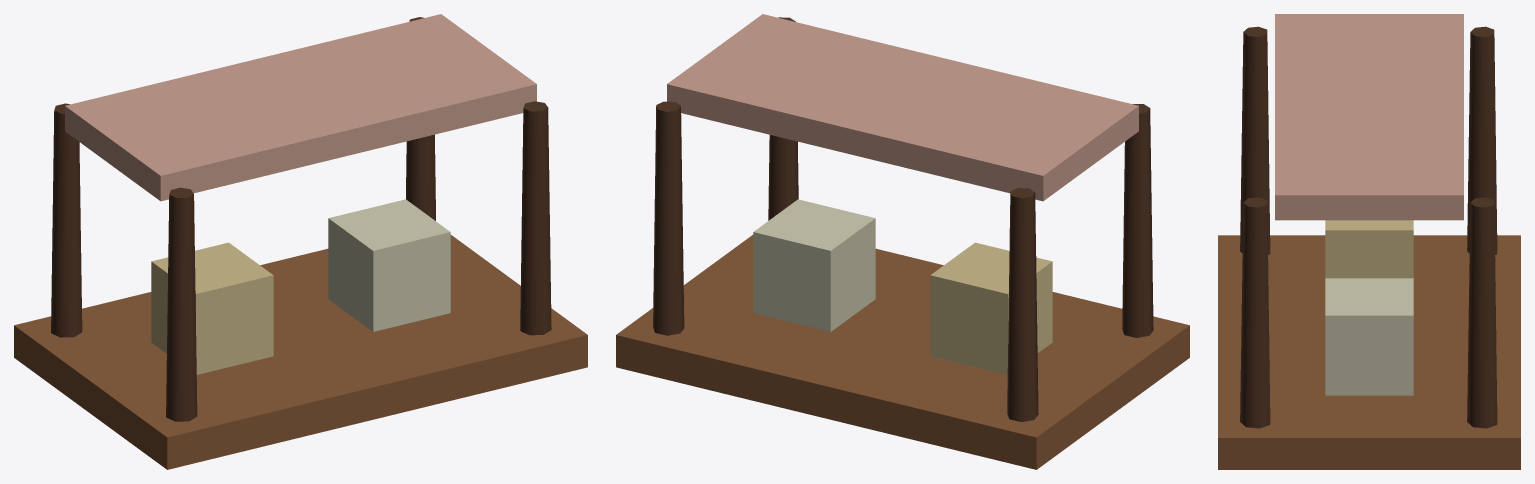
File: picnic_set.glb
3 views of the same model, side by side, from view 1: azimuth 30°, elevation 25°; view 2: azimuth 150°, elevation 25°; view 3: azimuth 270°, elevation 25° (orthographic).
Visible parts, largest first — view 1: platform, top, detail_b, detail_a, post_3, post_2, post_0, post_1; view 2: platform, top, detail_b, detail_a, post_0, post_1, post_2, post_3; view 3: platform, top, detail_b, post_1, post_3, detail_a, post_0, post_2.
Part boxes in pixels (x1,y1,x2,y2): platform: [14, 235, 587, 469]; top: [65, 14, 536, 201]; detail_b: [328, 199, 450, 331]; detail_a: [151, 242, 273, 374]; post_3: [520, 101, 551, 335]; post_2: [166, 187, 197, 421]; post_0: [51, 103, 82, 337]; post_1: [406, 17, 435, 220]; platform: [616, 235, 1189, 469]; top: [667, 14, 1138, 201]; detail_b: [753, 199, 875, 331]; detail_a: [930, 242, 1052, 374]; post_0: [1007, 188, 1038, 422]; post_1: [653, 101, 684, 335]; post_2: [1122, 104, 1153, 337]; post_3: [768, 17, 798, 220]; platform: [1218, 235, 1520, 469]; top: [1275, 14, 1463, 220]; detail_b: [1325, 278, 1413, 395]; post_1: [1467, 197, 1497, 428]; post_3: [1240, 197, 1270, 428]; detail_a: [1325, 220, 1413, 278]; post_0: [1467, 26, 1497, 254]; post_2: [1240, 26, 1270, 254].
Size of what is drawn, in the model's own units: 3.8 by 2.31 by 2.4.
